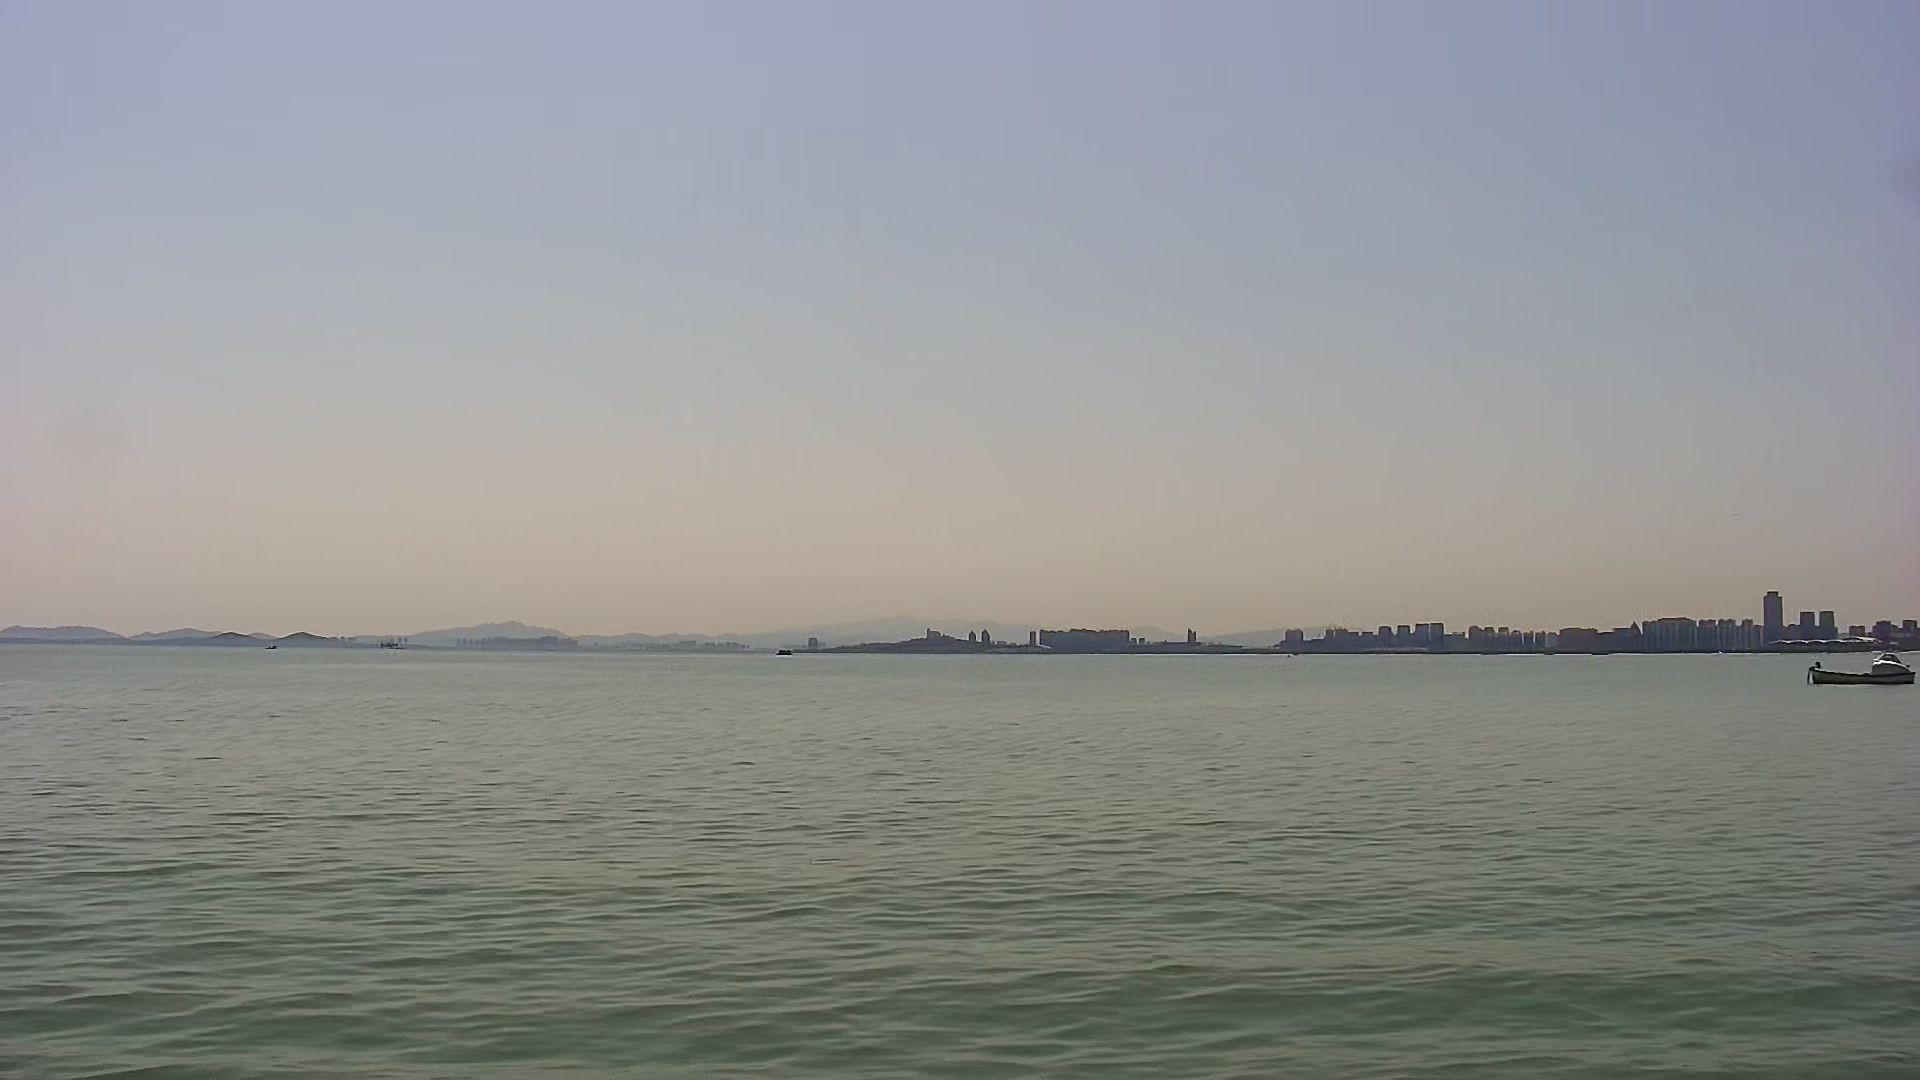boat: (1801, 644, 1917, 694)
